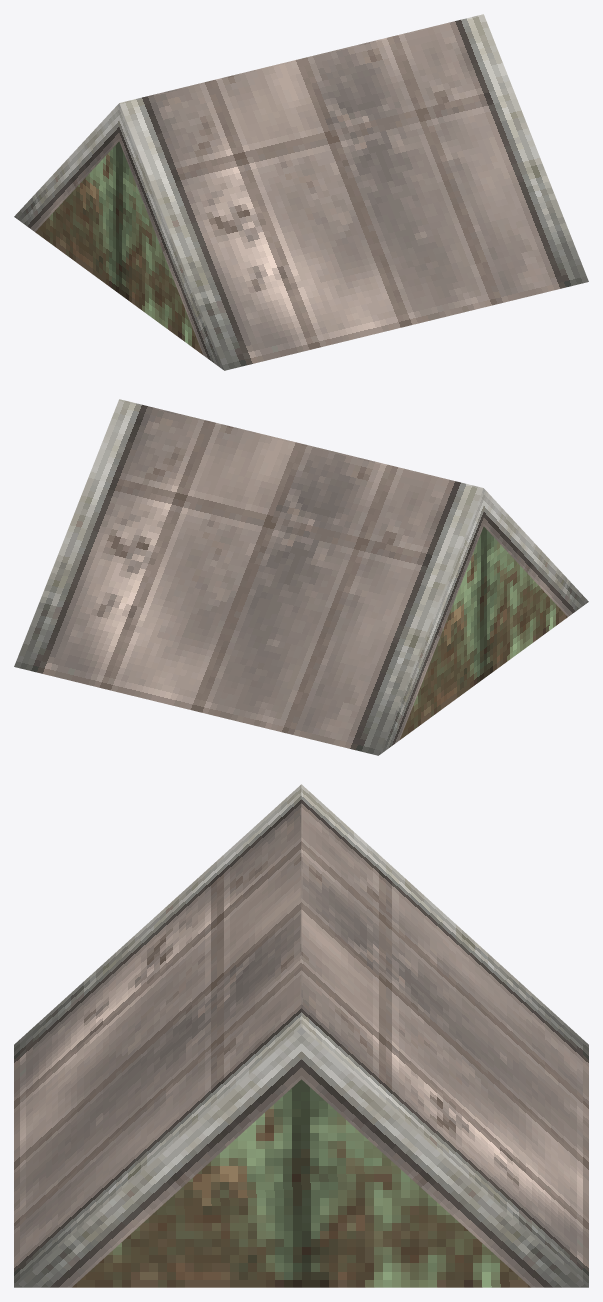
Rendered from wall-b-roof.opt.glb.
The picture shows the model from 3 angles, top to bottom: view 1: azimuth 30°, elevation 25°; view 2: azimuth 150°, elevation 25°; view 3: azimuth 270°, elevation 25°; orthographic projection. The views are drawn at different scales.
Size of the model in its own units: 1 by 0.5 by 1.
3 materials, 3 textured.
